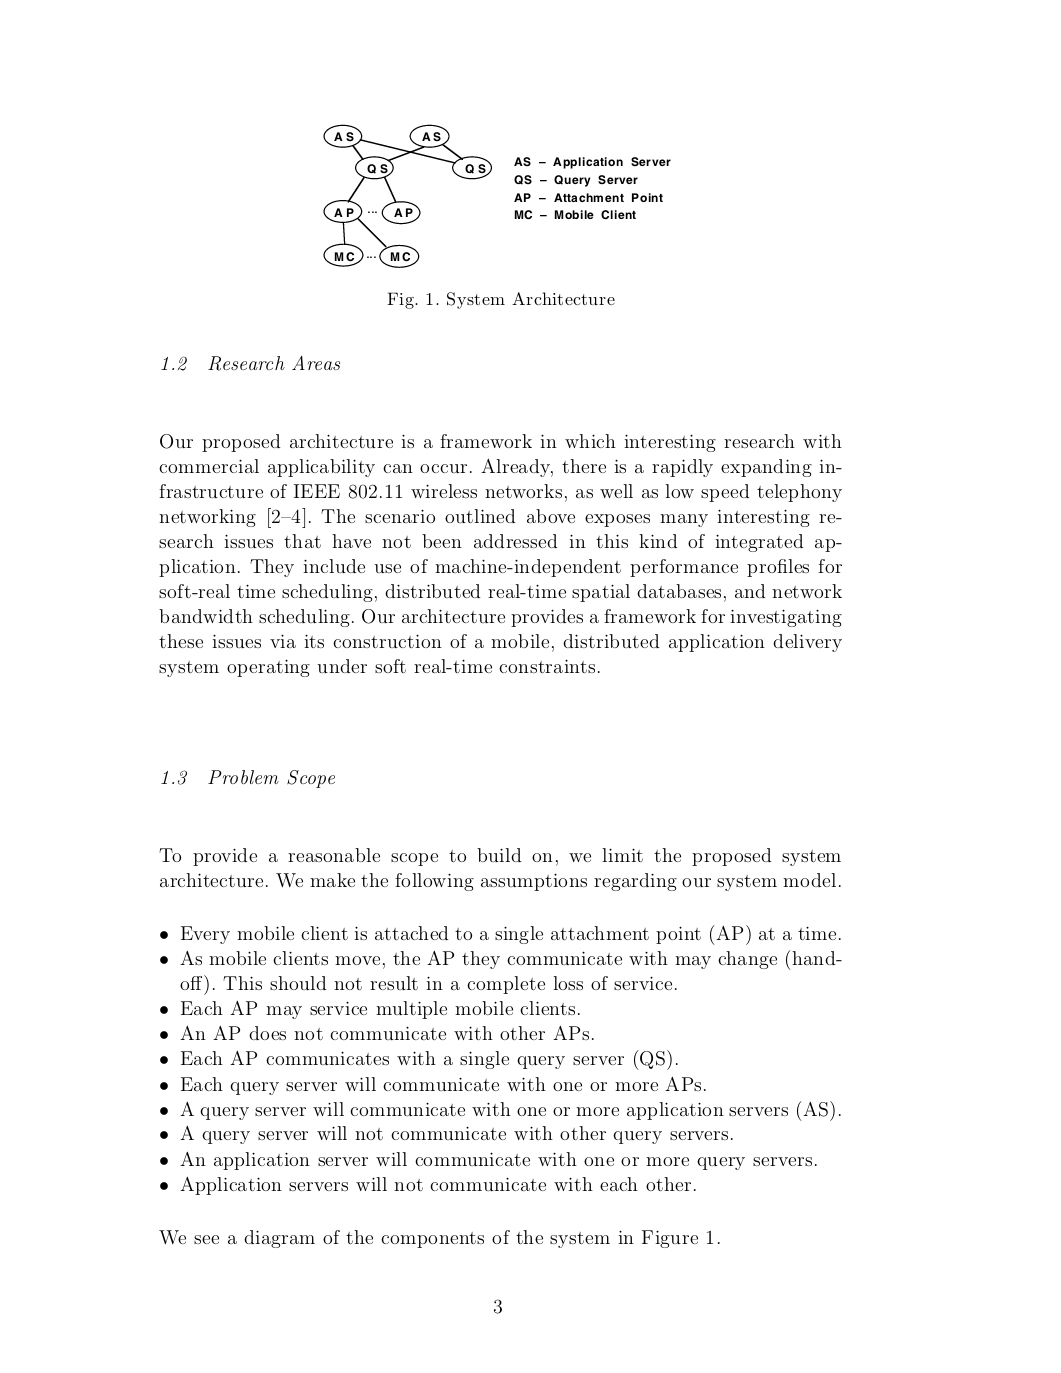figure: (323, 123, 670, 267)
